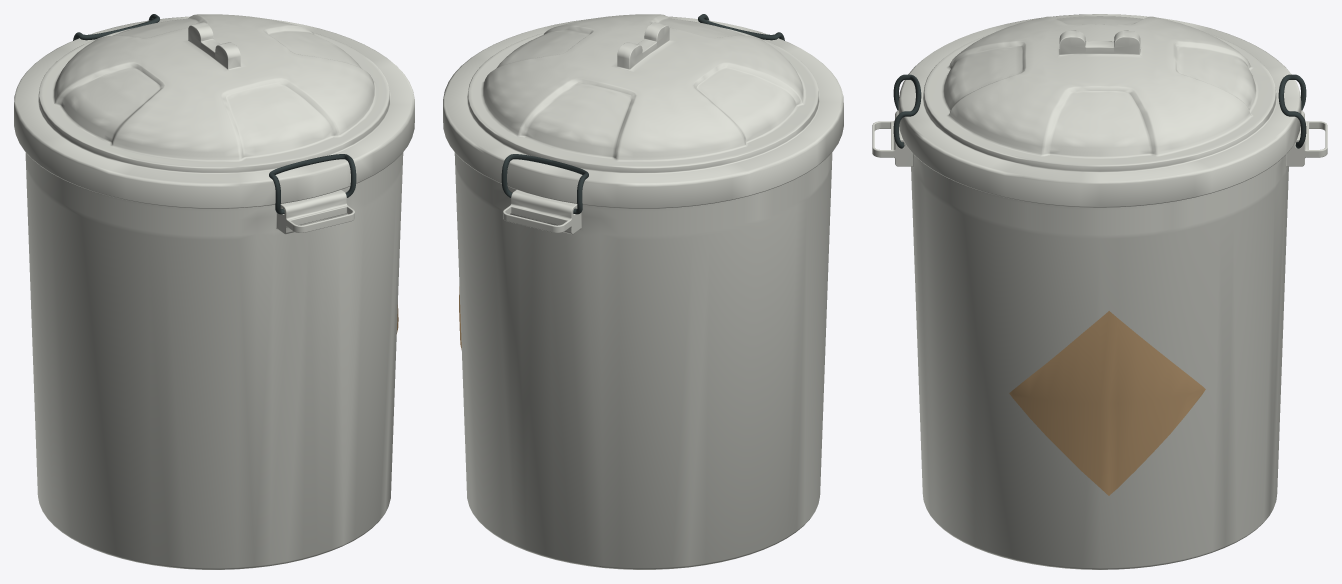
The model's file is fireProtection_spillKit_bucket_a01.glb.
3 renders of one model, left to right at view 1: azimuth 30°, elevation 25°; view 2: azimuth 150°, elevation 25°; view 3: azimuth 270°, elevation 25°, orthographic.
Bounding box in the file's own units: 0.4503 × 0.5711 × 0.5096.
